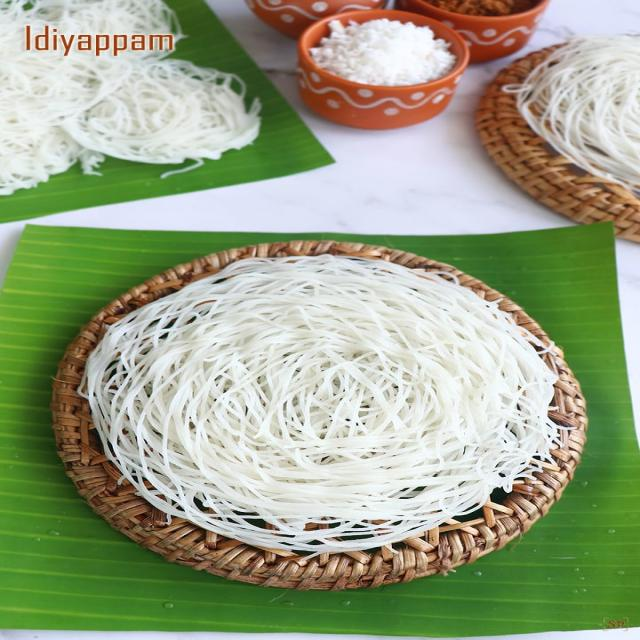IDIYAPPAM: (76, 253, 566, 554), (520, 28, 639, 205)
